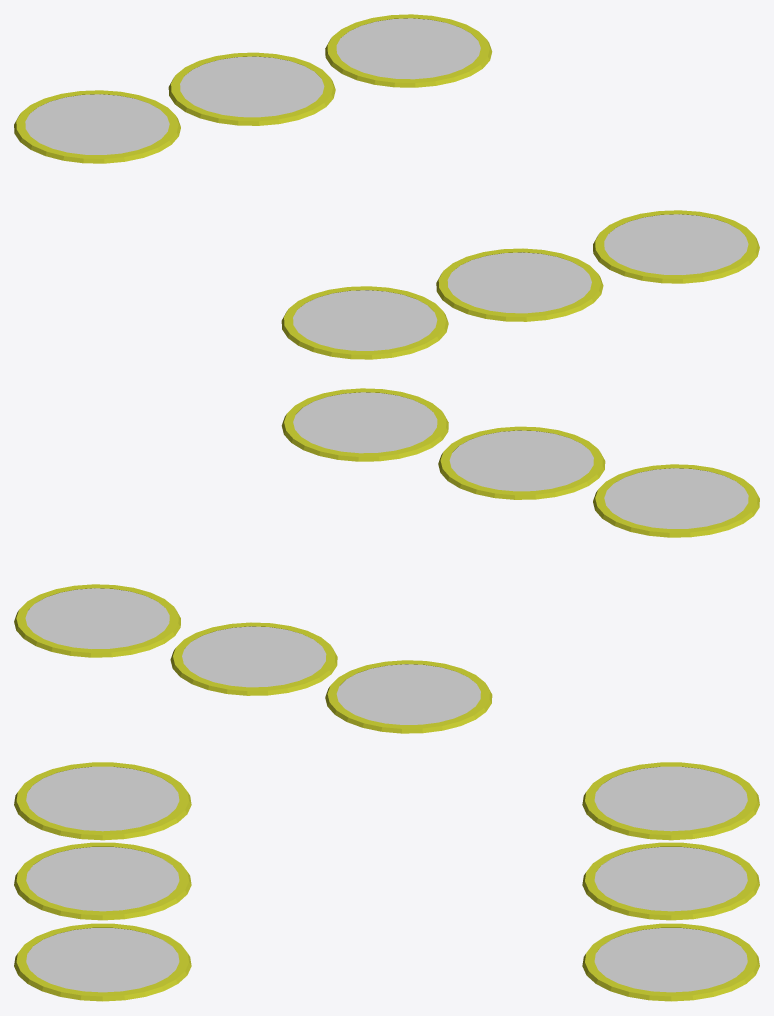
The model's file is arena1.fbx.
The picture shows the model from 3 angles, top to bottom: view 1: azimuth 30°, elevation 25°; view 2: azimuth 150°, elevation 25°; view 3: azimuth 270°, elevation 25°; orthographic projection. The views are drawn at different scales.
Parts seen in each view (by area): view 1: Cylinder.008, Cylinder.002, Cylinder.004, Cylinder.005, Cylinder.007, Cylinder.006, Torus.004, Torus.010, Torus.011, Torus.008, Torus.005, Torus.009; view 2: Cylinder.002, Cylinder.008, Cylinder.007, Cylinder.006, Cylinder.004, Cylinder.005, Torus.010, Torus.004, Torus.005, Torus.009, Torus.011, Torus.008; view 3: Cylinder.007, Cylinder.004, Cylinder.006, Cylinder.005, Cylinder.008, Cylinder.002, Torus.010, Torus.004, Torus.009, Torus.008, Torus.011, Torus.005.
Part boxes in pixels (x1,y1,x2,y2): Cylinder.008: (180,56,324,117); Cylinder.002: (447,252,591,313); Cylinder.004: (293,290,437,350); Cylinder.005: (604,214,748,274); Cylinder.007: (25,94,169,154); Cylinder.006: (336,18,480,79); Torus.004: (281,286,448,359); Torus.010: (14,90,180,163); Torus.011: (168,52,335,125); Torus.008: (593,210,759,283); Torus.005: (436,248,603,321); Torus.009: (325,14,492,87); Cylinder.002: (449,430,593,491); Cylinder.008: (182,626,326,687); Cylinder.007: (336,664,480,724); Cylinder.006: (25,588,169,648); Cylinder.004: (604,468,748,528); Cylinder.005: (293,392,437,453); Torus.010: (325,660,492,733); Torus.004: (593,464,759,537); Torus.005: (438,426,605,499); Torus.009: (14,584,180,657); Torus.011: (170,622,337,695); Torus.008: (281,388,448,461); Cylinder.007: (594,766,747,831); Cylinder.004: (26,766,179,831); Cylinder.006: (594,928,747,992); Cylinder.005: (26,928,179,992); Cylinder.008: (594,847,747,911); Cylinder.002: (26,847,179,911); Torus.010: (582,762,759,840); Torus.004: (14,762,191,840); Torus.009: (582,923,759,1001); Torus.008: (14,923,191,1001); Torus.011: (582,842,759,920); Torus.005: (14,842,191,920).
Bounding box in the file's own units: 420 × 5.75 × 560.
